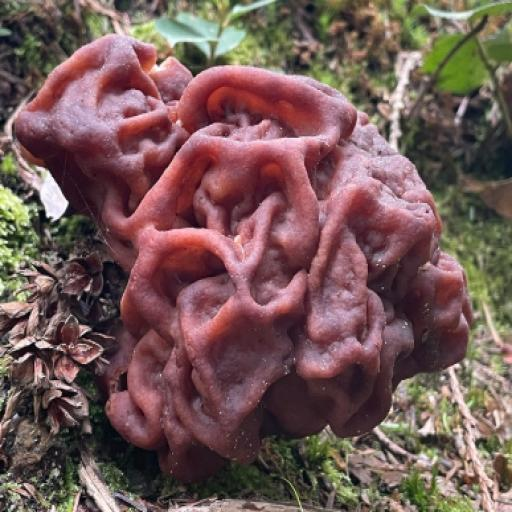mushroom: (15, 32, 470, 464)
